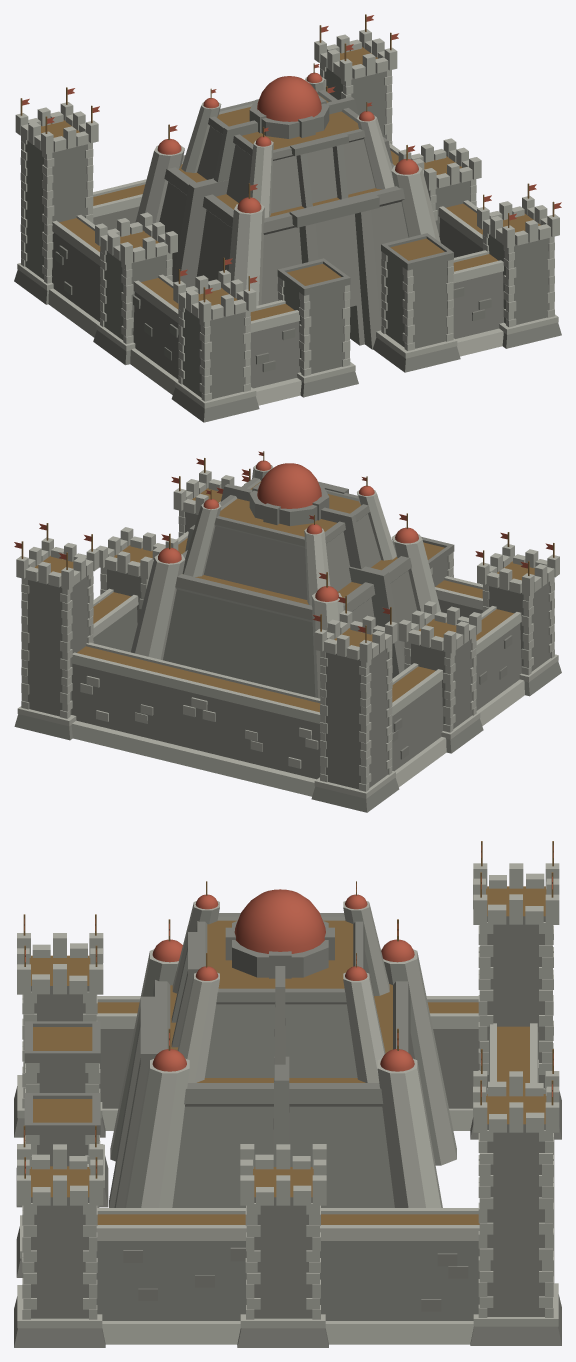
The model's file is castle-fortress.glb.
3 views of the same model, one above another, from view 1: azimuth 30°, elevation 25°; view 2: azimuth 150°, elevation 25°; view 3: azimuth 270°, elevation 25° (orthographic). The views are drawn at different scales.
Parts seen in each view (by area): view 1: Wonder_SecondAge_Level3; view 2: Wonder_SecondAge_Level3; view 3: Wonder_SecondAge_Level3.
Boxes of the visible parts, x1,y1,x2,y2 form: Wonder_SecondAge_Level3: (14,14,561,422); Wonder_SecondAge_Level3: (14,451,561,812); Wonder_SecondAge_Level3: (14,841,561,1347).
Size of the model in its own units: 2.13 by 1.35 by 1.96.
